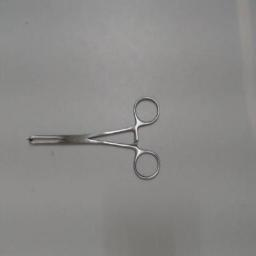Allis Tissue Forceps: (24, 92, 164, 186)
